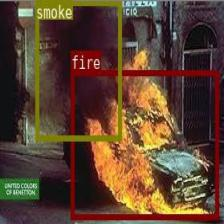fire: (71, 69, 218, 219)
smoke: (34, 0, 120, 139)
